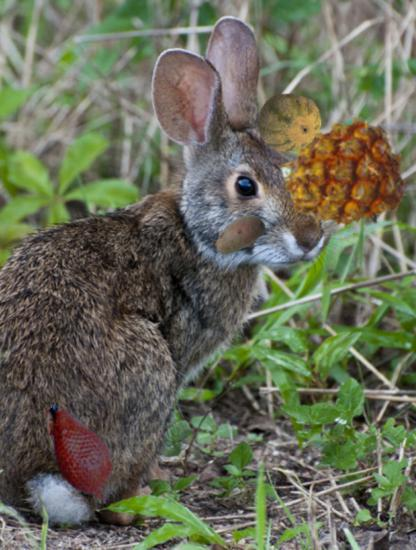Cantaloupe: (258, 91, 322, 155)
Pineapple: (284, 115, 406, 237)
Potato: (209, 207, 269, 267)
Salak: (26, 400, 135, 509)
